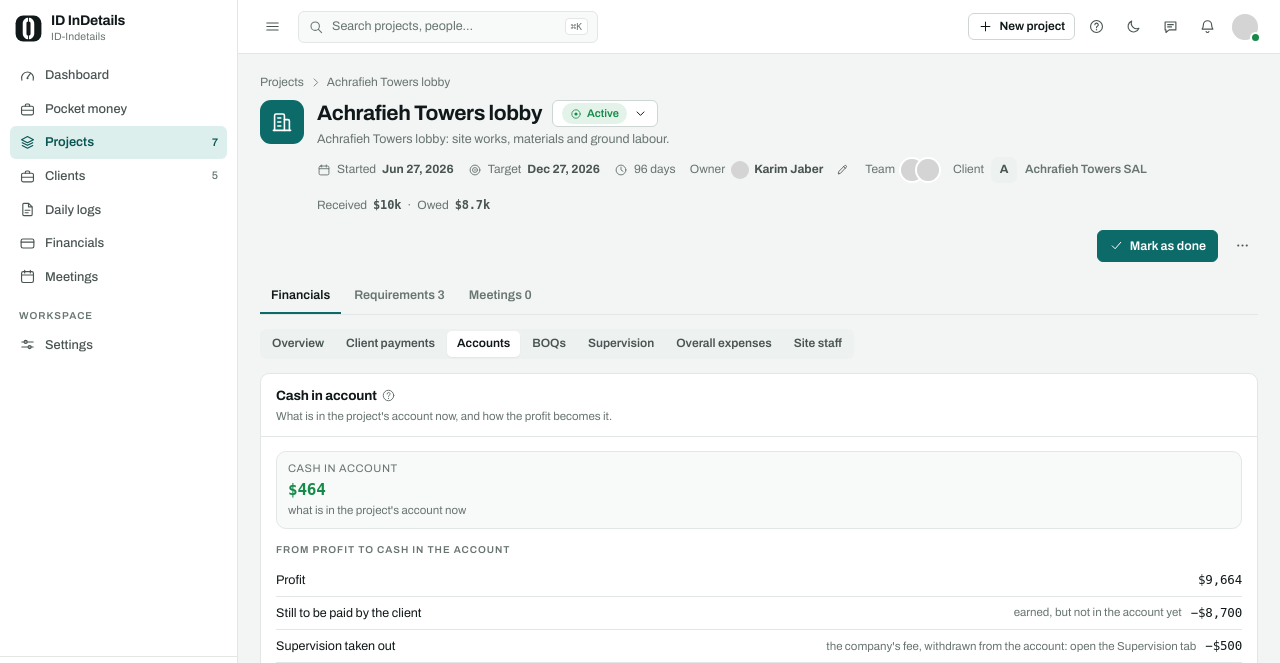
Test: the parts of an Execution site's Financials tab › show the accounts, the BOQs and the site staff as the part asked for
Click the tab "BOQs": [549, 344] box [522,331,576,357]
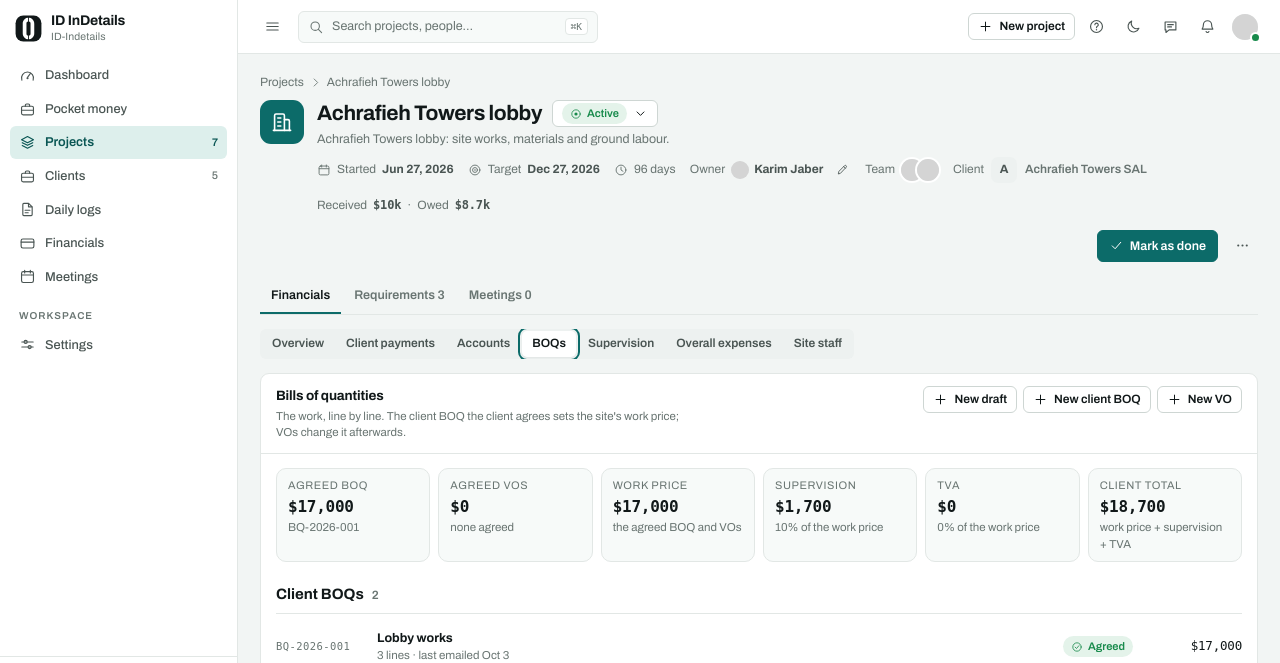
Click the tab "Site staff": [818, 344] box [784,331,852,357]
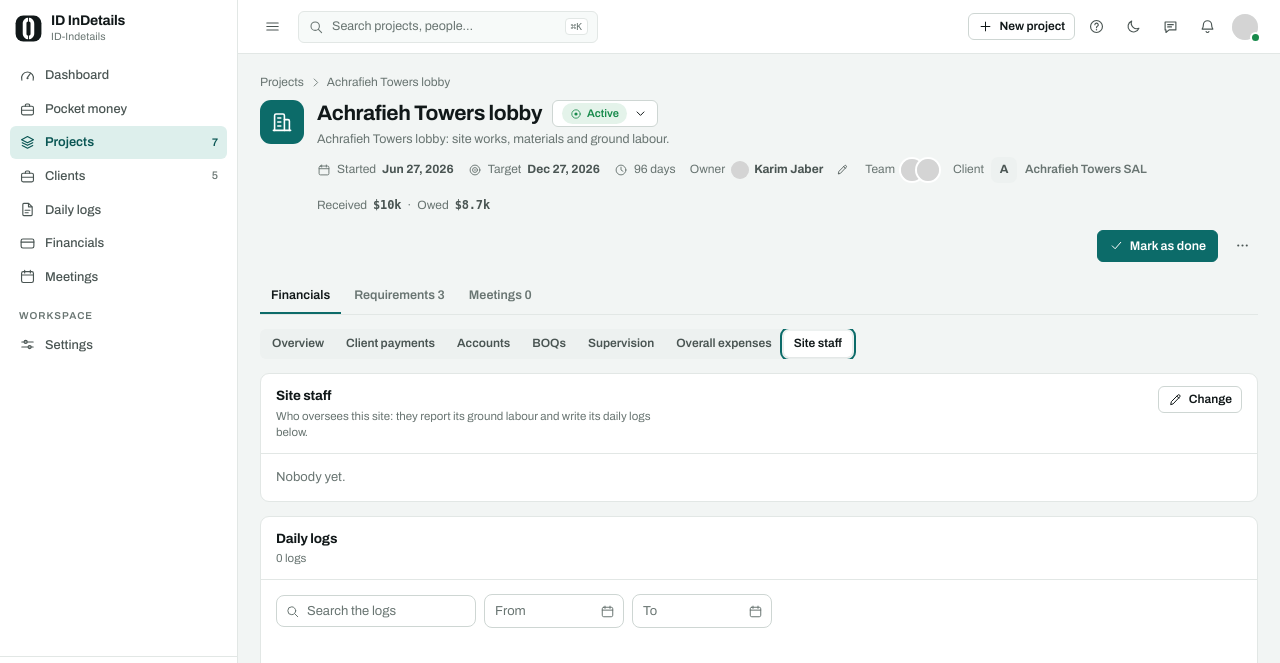
Now the element labelled "Site staff" is shown, box [260,373,1258,502]
Now the text "Bills of quantities" is gone
